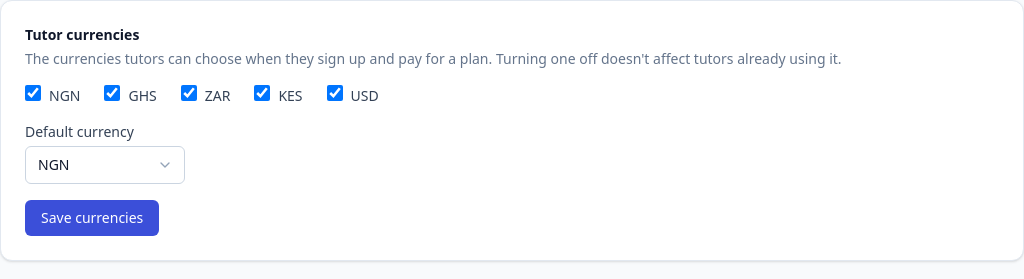
Test: TutorCurrenciesCard › moves the default off a currency that is switched off
Click the checkbox labelled "NGN" at (33, 93), box [25,85,41,101]
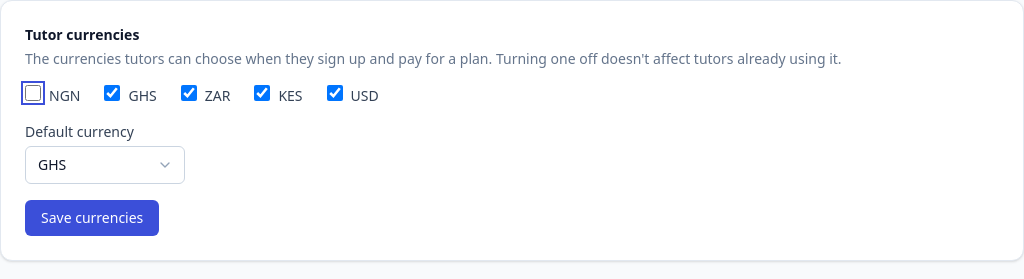
Check: the dropdown labelled "Default currency" shows "GHS", box [25,146,185,184]
